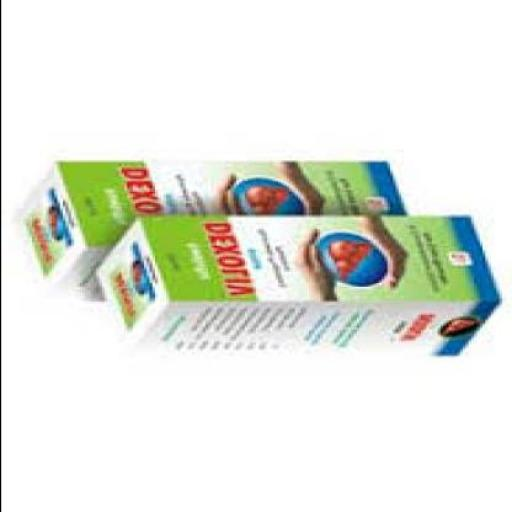cardboard: (89, 213, 498, 354), (14, 158, 403, 300)
